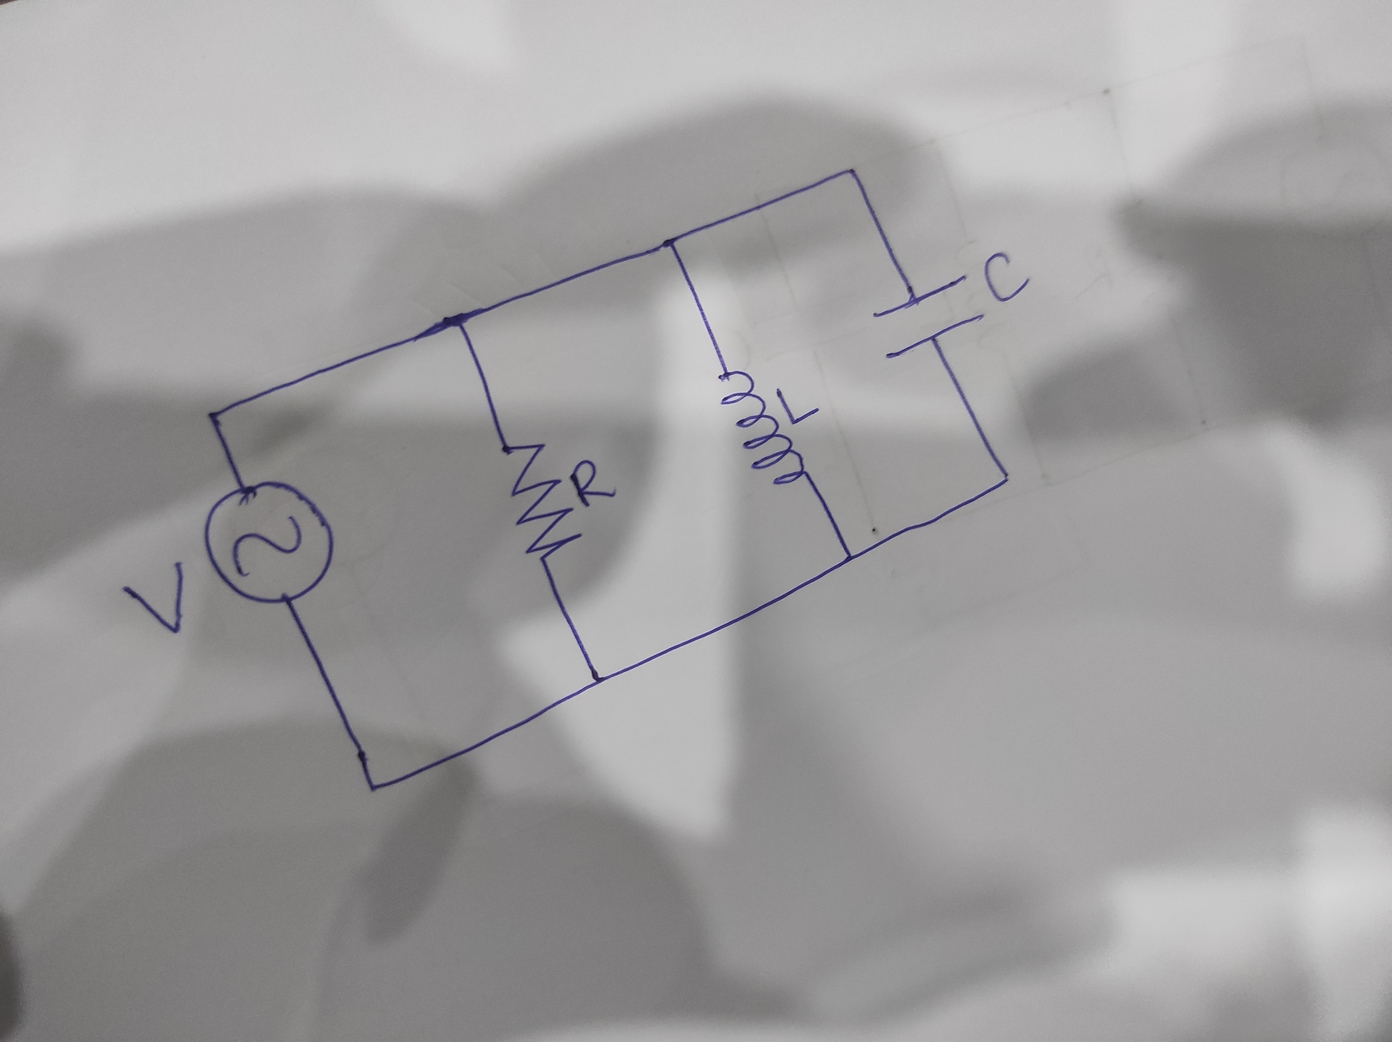capacitor.unpolarized: (860, 273, 986, 360)
inductor: (714, 366, 809, 489)
junction: (436, 301, 482, 340), (826, 539, 865, 574), (199, 401, 230, 435), (361, 774, 385, 797), (994, 465, 1017, 488), (659, 230, 680, 254), (840, 161, 863, 182), (587, 671, 610, 691)
resistor: (498, 438, 583, 564)
text: (120, 557, 189, 637), (981, 248, 1036, 305), (567, 458, 618, 510), (774, 384, 821, 424)
voltage.dc_ac: (198, 479, 345, 607)
